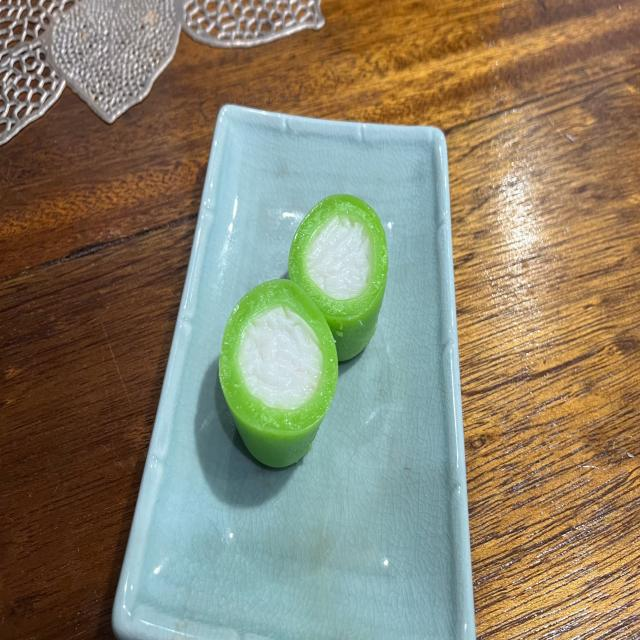nona-manis: (219, 280, 338, 467), (289, 193, 389, 360)
